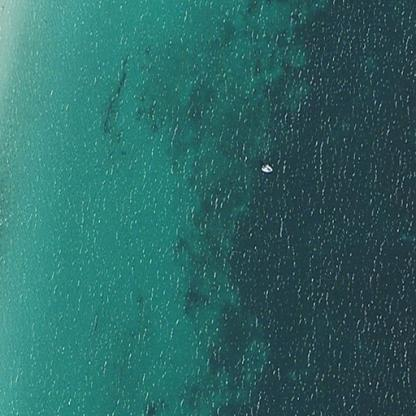ship: (256, 158, 276, 176)
